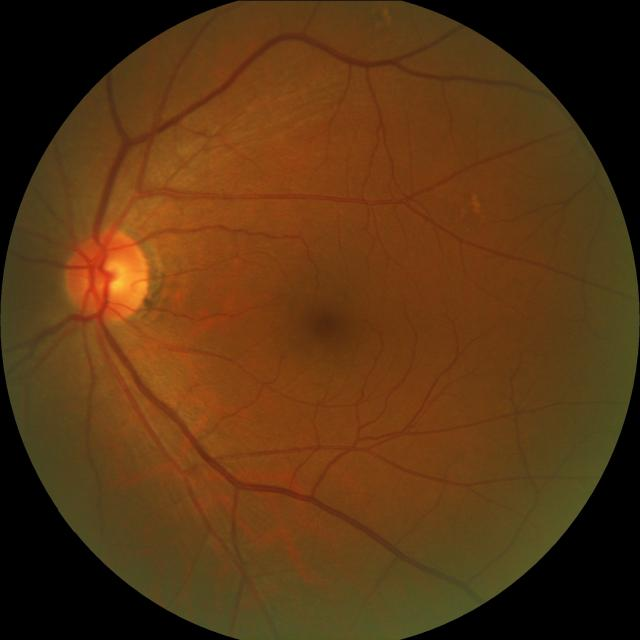OC: (90, 256, 130, 300)
OD: (66, 227, 152, 322)
